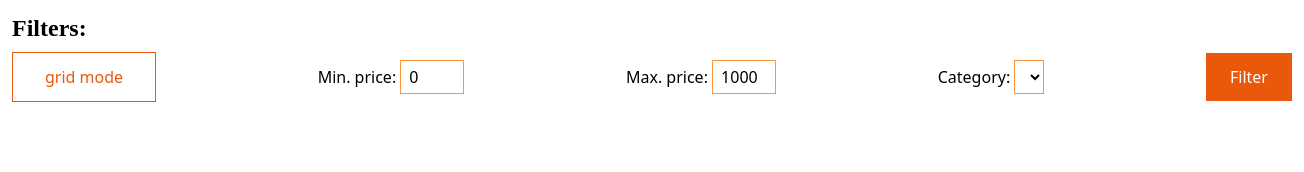
Shop settings › listens to change event on minPrice input correctly
The width and height of the screenshot is (1304, 172).
Step 1. Click the field labelled "Min. price:" → (432, 77), box [400,60,464,94]
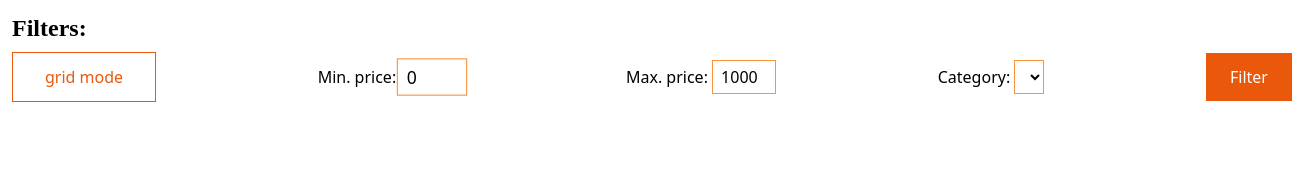
Step 2. Type keys "20"
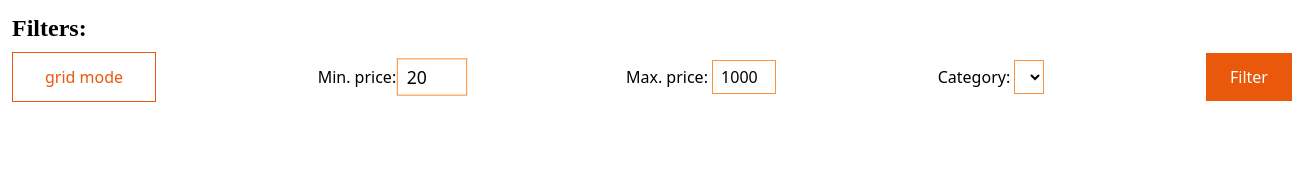
Result: the field labelled "Min. price:" holds "20" at [397,58,468,96]
